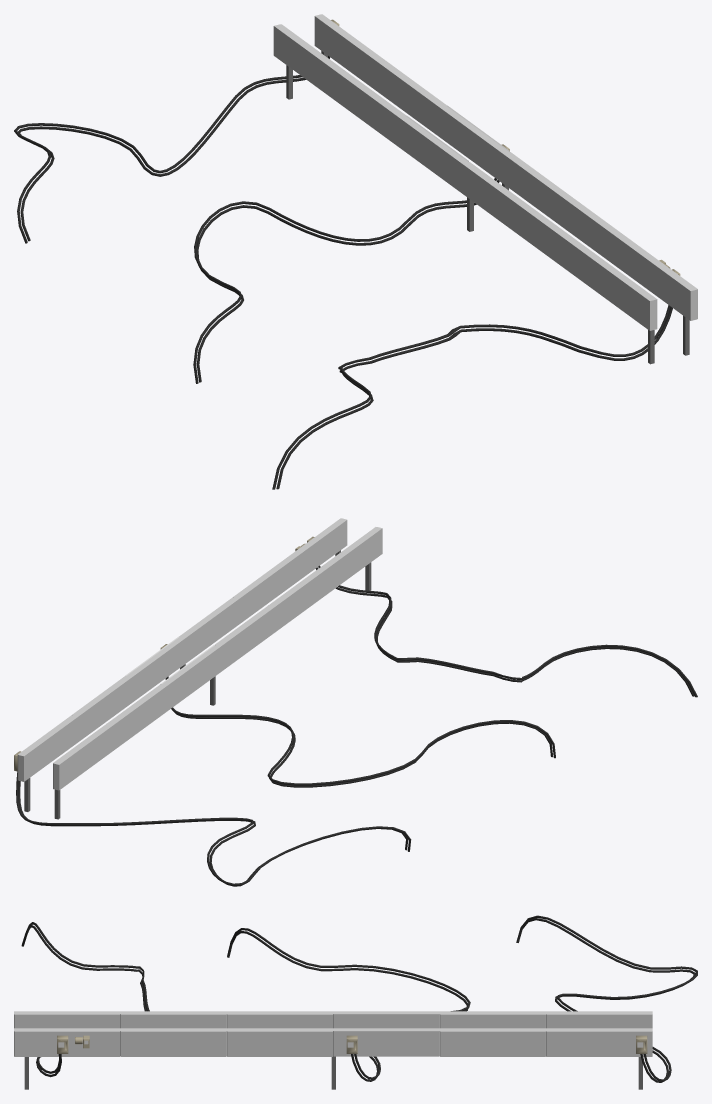
Rendered from conveyor_nobase.dae.
The picture shows the model from 3 angles, top to bottom: view 1: azimuth 30°, elevation 25°; view 2: azimuth 150°, elevation 25°; view 3: azimuth 270°, elevation 25°; orthographic projection. The views are drawn at different scales.
Visible parts, largest first — view 1: conveyor_guards, HV_wire_BezierCurve, HV_wire_BezierCurve.001, HV_wire_BezierCurve.002, conveyor_legs; view 2: conveyor_guards, HV_wire_BezierCurve.001, HV_wire_BezierCurve, HV_wire_BezierCurve.002, conveyor_legs; view 3: conveyor_guards, HV_wire_BezierCurve.002, HV_wire_BezierCurve.001, HV_wire_BezierCurve, Cube.033, conveyor_legs.
Part boxes in pixels (left/top/right/bottom): conveyor_guards: left=273, top=14, right=697, bottom=330; HV_wire_BezierCurve: left=272, top=305, right=672, bottom=489; HV_wire_BezierCurve.001: left=193, top=178, right=499, bottom=383; HV_wire_BezierCurve.002: left=14, top=56, right=329, bottom=243; conveyor_legs: left=286, top=51, right=689, bottom=364; conveyor_guards: left=17, top=518, right=382, bottom=790; HV_wire_BezierCurve.001: left=165, top=676, right=555, bottom=787; HV_wire_BezierCurve: left=315, top=565, right=697, bottom=697; HV_wire_BezierCurve.002: left=16, top=772, right=411, bottom=886; conveyor_legs: left=24, top=550, right=371, bottom=819; conveyor_guards: left=14, top=1011, right=652, bottom=1056; HV_wire_BezierCurve.002: left=516, top=915, right=697, bottom=1082; HV_wire_BezierCurve.001: left=227, top=928, right=470, bottom=1081; HV_wire_BezierCurve: left=21, top=922, right=149, bottom=1077; Cube.033: left=57, top=1035, right=647, bottom=1053; conveyor_legs: left=24, top=1056, right=642, bottom=1089.
Size of the model in its own units: 5.94 by 9.64 by 1.35.
